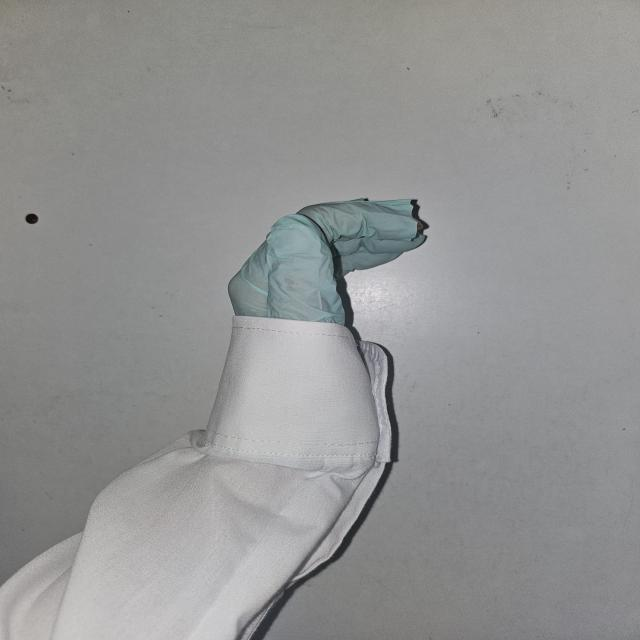gloves_damaged: (220, 197, 430, 328)
